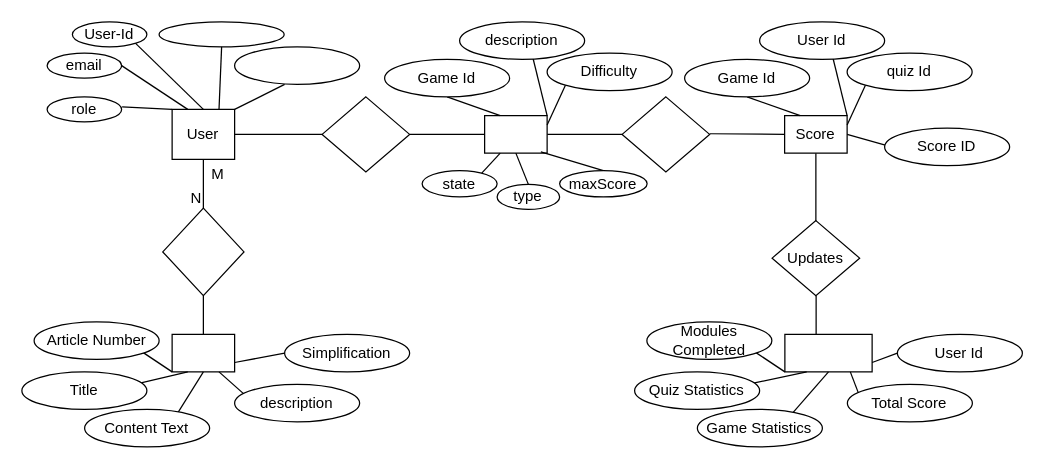
The diagram is 1045 pixels wide and 469 high, and some of its shapes have lost their labels. Here are the shapes that lost their labels. From the top down, the centre of each, then its label:
At point 221,34: "User-name".
At point 296,65: "User-Password".
At point 365,134: "Plays".
At point 515,133: "Game".
At point 665,134: "Gets".
At point 203,251: "Reads / Learns".
At point 203,352: "Article".
At point 828,352: "Dashboard".
